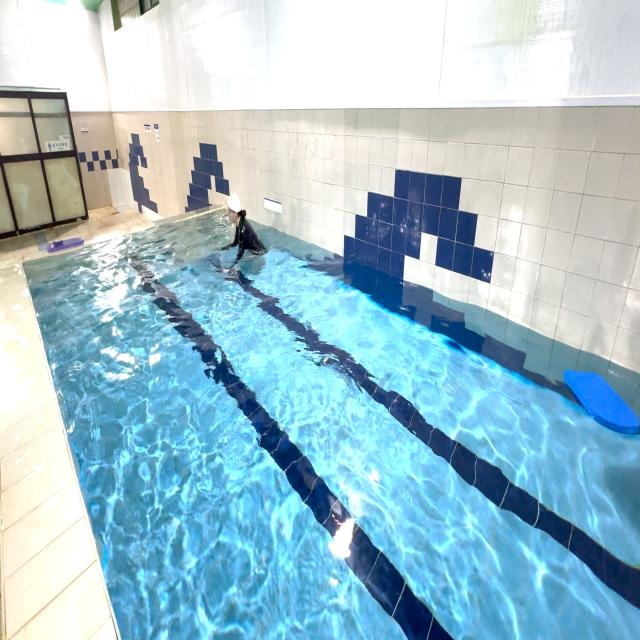Swimming: (204, 176, 285, 292)
